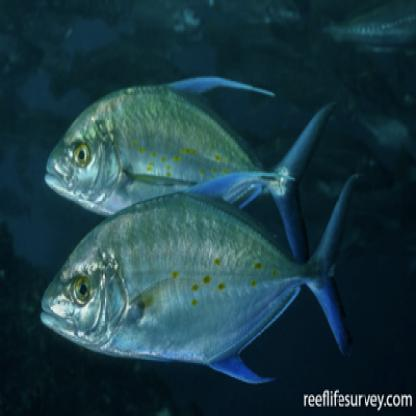jack: (38, 157, 364, 389), (36, 59, 331, 278)
